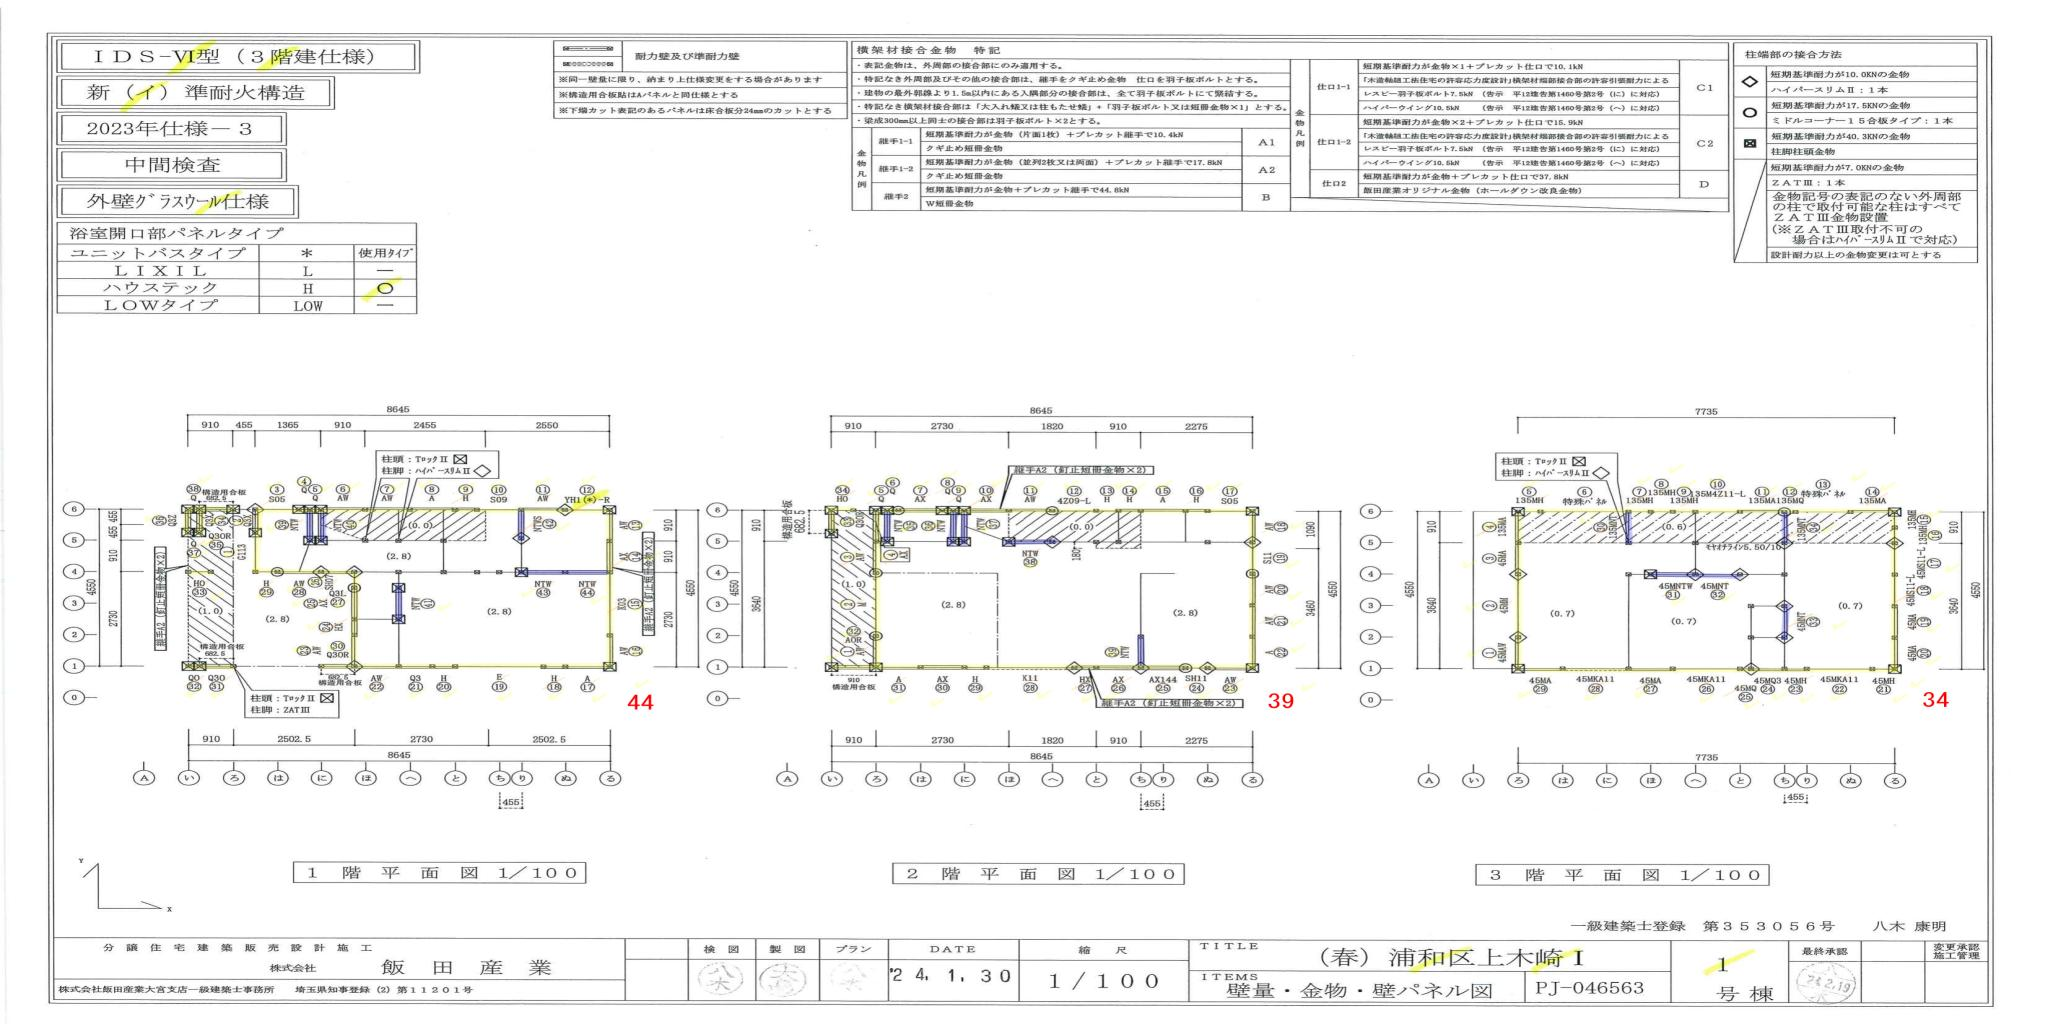CAD: (150, 476, 646, 695), (1469, 477, 1946, 704), (822, 474, 1297, 695)
